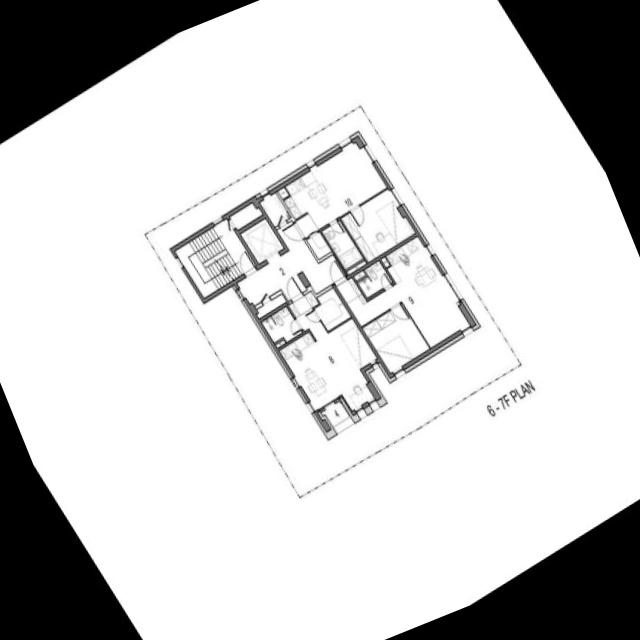background: (0, 0, 640, 640)
space_bedroom: (340, 188, 415, 262), (361, 302, 429, 372), (313, 287, 350, 330)
space_elevator: (239, 217, 283, 263)
space_elevator_hall: (236, 220, 345, 305)
space_front: (295, 213, 331, 258), (287, 290, 318, 317), (336, 276, 366, 303)
space_kitchen: (278, 331, 345, 409), (385, 235, 442, 298), (283, 170, 327, 219)
space_living_room: (346, 276, 468, 347), (295, 307, 376, 410), (307, 142, 386, 229)
space_other: (259, 192, 290, 226), (229, 202, 262, 229), (255, 293, 286, 318), (346, 260, 366, 274), (277, 186, 288, 199), (353, 270, 365, 280), (380, 256, 389, 267), (275, 339, 284, 347)
space_staircase: (174, 217, 255, 297)
space_toilet: (321, 219, 362, 269), (260, 305, 301, 342), (357, 260, 392, 297)
